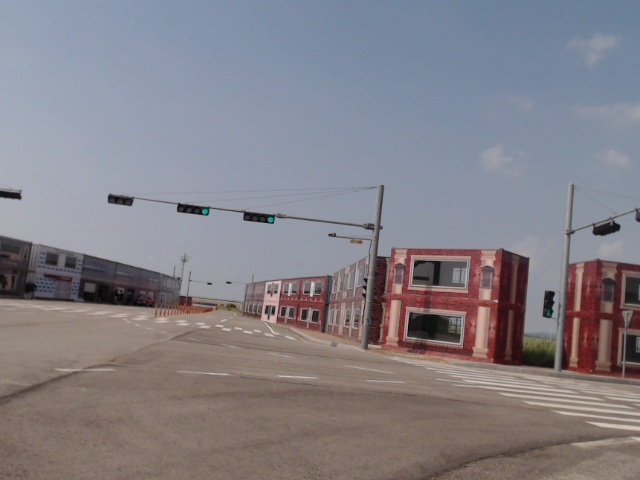straight_green_4: (243, 211, 275, 224), (179, 204, 210, 216)
